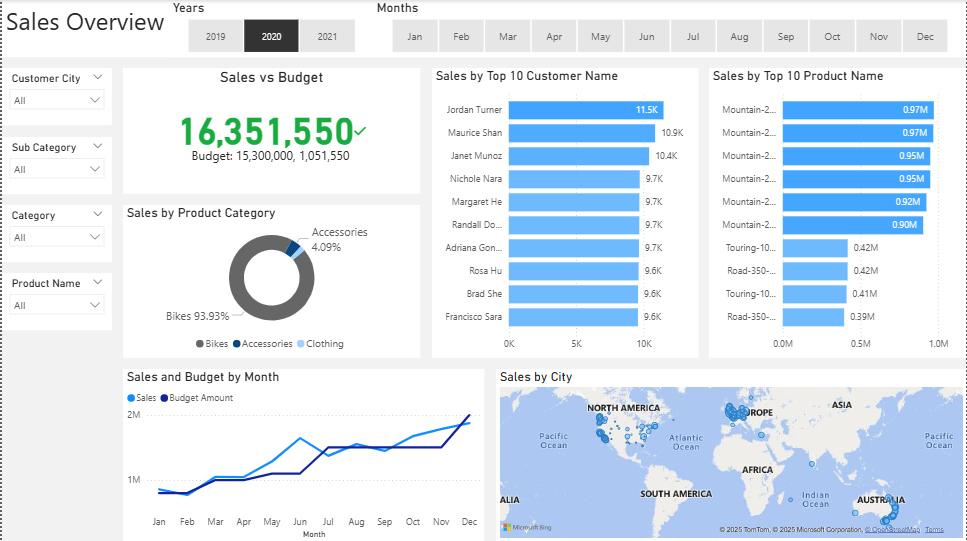

This screenshot's page, from the dashboard's own definition file:
{"tool":"powerbi","page":{"name":"Sales Overview","canvas":[1280,720],"ordinal":0},"visuals":[{"type":"textbox","box":[0,0,1280.5,76.1],"z":0},{"type":"slicer","fields":{"Values":["DIM_Customers.Customer City"]},"box":[0,90.7,146.3,76.1],"z":1000},{"type":"slicer","fields":{"Values":["DIM_Products.Sub Category"]},"box":[0,181.5,146.3,76.1],"z":2000},{"type":"slicer","fields":{"Values":["DIM_Products.Product Category"]},"box":[0,272.2,146.3,76.1],"z":3000},{"type":"slicer","title":"Years","fields":{"Values":["DIM_Calendar.Year"]},"box":[222.4,0,270.7,76.1],"z":4000},{"type":"slicer","title":"Months","fields":{"Values":["DIM_Calendar.MonthShort"]},"box":[493.2,0,787.3,76.1],"z":5000},{"type":"kpi","title":"Sales vs Budget","fields":{"Goal":["_Measures.Budget Amount","_Measures.Sales - Budget"],"Indicator":["_Measures.Sales"],"TrendLine":["DIM_Calendar.Year"]},"box":[161,90.7,395.1,166.8],"z":6000},{"type":"donutChart","fields":{"Y":["_Measures.Sales"],"Category":["DIM_Products.Product Category"]},"box":[161,272.2,395.1,203.4],"z":7000},{"type":"lineChart","title":"Sales and Budget by Month","fields":{"Y":["_Measures.Sales","_Measures.Budget Amount"],"Category":["DIM_Calendar.MonthShort"]},"box":[161,490.2,480,229.8],"z":8000},{"type":"barChart","title":"Sales by Top 10 Customer Name","fields":{"Y":["_Measures.Sales"],"Category":["DIM_Customers.Full Name"]},"box":[570.7,90.7,354.1,384.9],"z":9000},{"type":"barChart","title":"Sales by Top 10 Product Name","fields":{"Y":["_Measures.Sales"],"Category":["DIM_Products.Product Name"]},"box":[939.5,90.7,341,384.9],"z":10000},{"type":"map","fields":{"Category":["DIM_Customers.Customer City"],"Size":["_Measures.Sales"]},"box":[655.6,490.2,624.9,229.8],"z":11000},{"type":"slicer","fields":{"Values":["DIM_Products.Product Name"]},"box":[0,362.9,146.3,76.1],"z":12000}]}

Visuals, with their boxes in screenshot pixels (x1, y1, x2, y2), scaled from the page's 1280x720 canvas onto the 967x541 screenshot:
textbox: [0,0,966,57]
slicer - DIM_Customers.Customer City: [0,68,111,125]
slicer - DIM_Products.Sub Category: [0,136,111,194]
slicer - DIM_Products.Product Category: [0,205,111,262]
"Years" slicer: [168,0,373,57]
"Months" slicer: [373,0,966,57]
"Sales vs Budget" kpi: [122,68,420,193]
donutChart - _Measures.Sales x DIM_Products.Product Category: [122,205,420,357]
"Sales and Budget by Month" lineChart: [122,368,484,540]
"Sales by Top 10 Customer Name" barChart: [431,68,699,357]
"Sales by Top 10 Product Name" barChart: [710,68,966,357]
map - DIM_Customers.Customer City x _Measures.Sales: [495,368,966,540]
slicer - DIM_Products.Product Name: [0,273,111,330]
